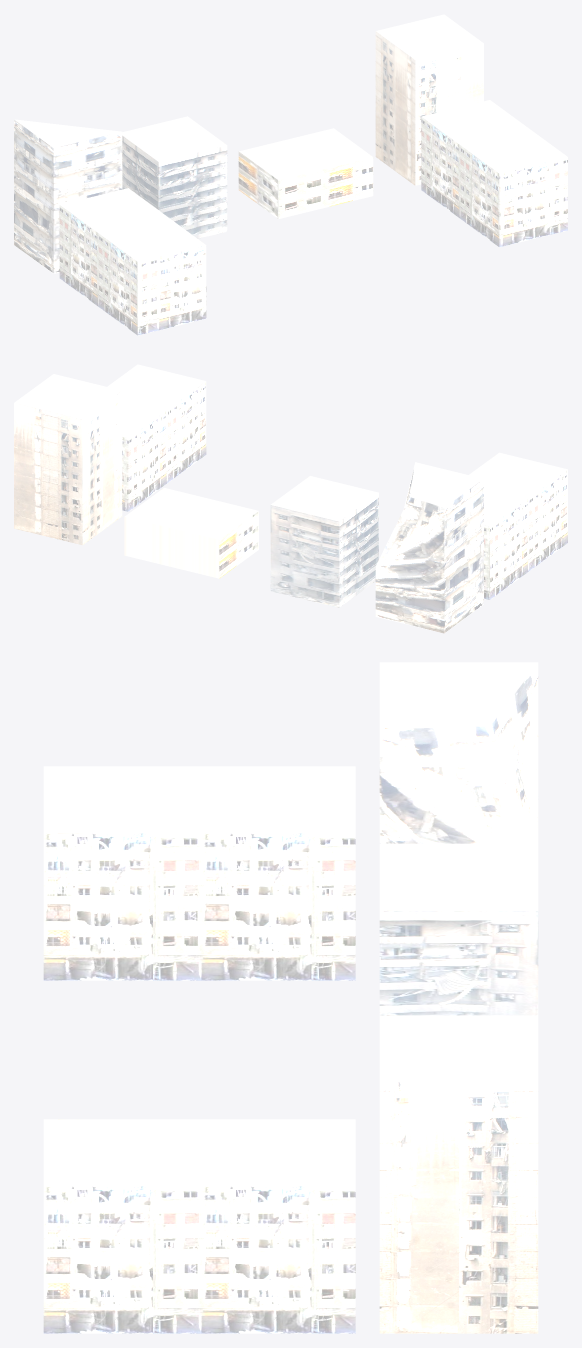
The picture shows the model from 3 angles, top to bottom: view 1: azimuth 30°, elevation 25°; view 2: azimuth 150°, elevation 25°; view 3: azimuth 270°, elevation 25°; orthographic projection. The views are drawn at different scales.
Parts seen in each view (by area): view 1: obj5.001; view 2: obj5.001; view 3: obj5.001.
Boxes of the visible parts, <box> form: obj5.001: <box>14,14,567,335</box>; obj5.001: <box>14,364,567,633</box>; obj5.001: <box>43,662,538,1333</box>.
Size of the model in its own units: 2.07 by 0.578 by 1.03.
6 materials, 6 textured.
